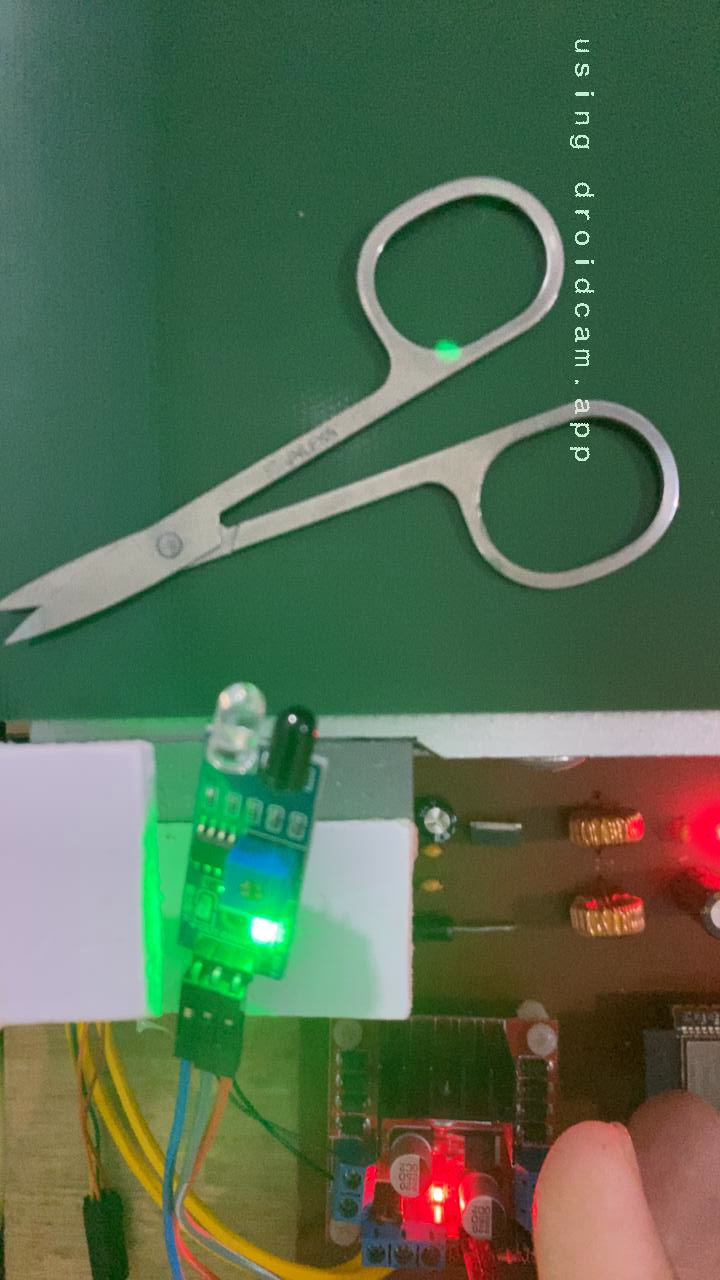scissor: (0, 169, 689, 652)
